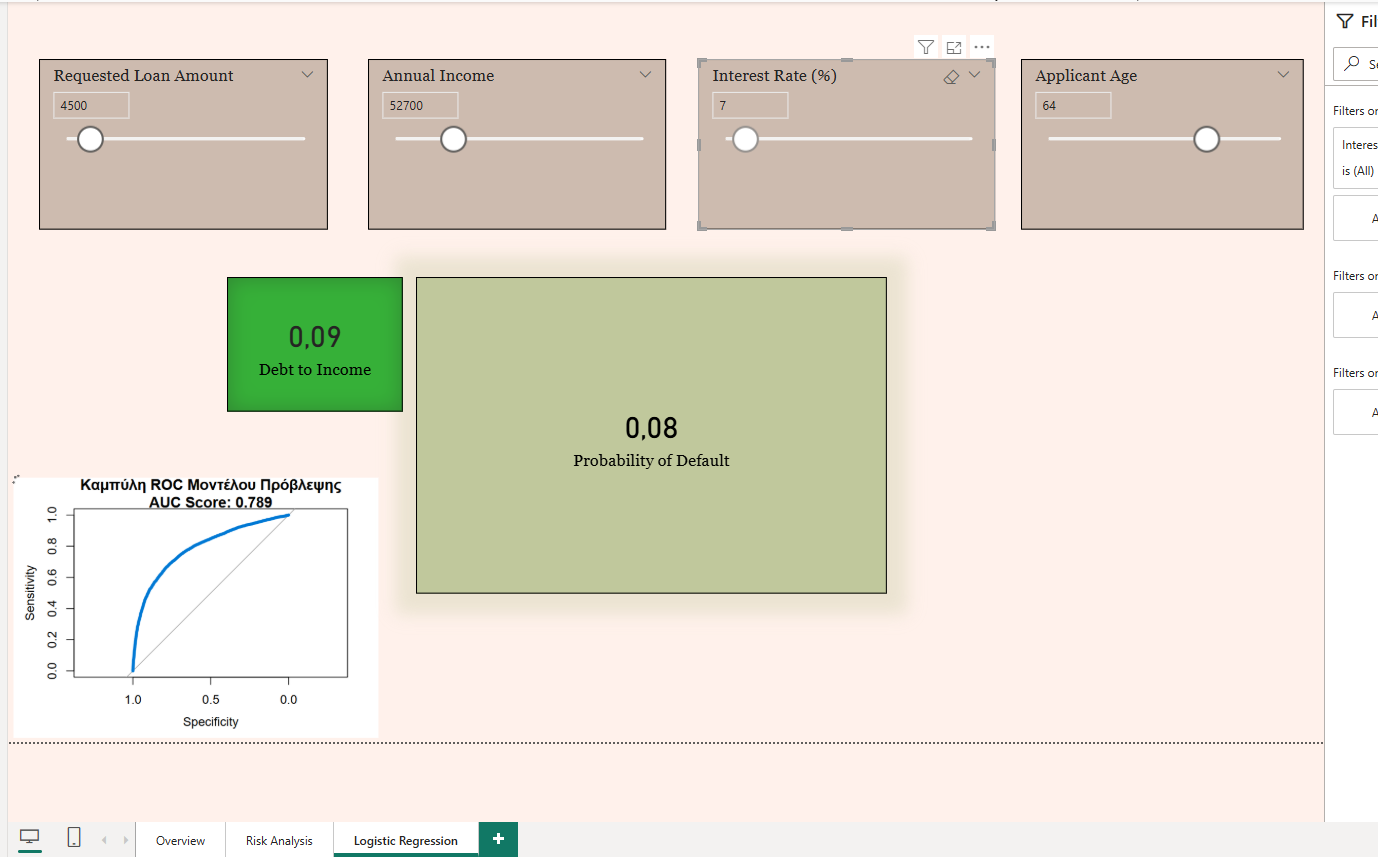

The dashboard page shown, as its layout file describes it:
{"tool":"powerbi","page":{"name":"Logistic Regression ","canvas":[1280,720],"ordinal":2},"visuals":[{"type":"scriptVisual","fields":{"Values":["credit_risk_dataset.cb_person_cred_hist_length","credit_risk_dataset.Default_on_file","credit_risk_dataset.loan_amnt","credit_risk_dataset.loan_grade","credit_risk_dataset.loan_intent","credit_risk_dataset.loan_percent_income","credit_risk_dataset.loan_status","credit_risk_dataset.person_age","credit_risk_dataset.person_emp_length.1","credit_risk_dataset.person_home_ownership","credit_risk_dataset.person_income","credit_risk_dataset.Loan Interest Rate"]},"box":[0,456.7,365.4,263.3],"z":0},{"type":"slicer","fields":{"Values":["Ιncome.Ιncome"]},"box":[350.2,55.4,289.8,166.3],"z":1000},{"type":"slicer","fields":{"Values":["Loan Amount.Loan Amount"]},"box":[30.2,55.4,281.1,166.3],"z":2000},{"type":"slicer","fields":{"Values":["Interest Rate.Interest Rate"]},"box":[671.1,55.4,288.9,166.3],"z":3000},{"type":"slicer","fields":{"Values":["Person.Person"]},"box":[985.3,55.4,275.3,166.3],"z":4000},{"type":"card","fields":{"Values":["credit_risk_dataset.Πιθανότητα Κινδύνου"]},"box":[396.8,267.5,458.1,308.3],"z":5000},{"type":"card","fields":{"Values":["Εισοδημα.Debt to Income"]},"box":[213,267.5,171.2,131.3],"z":5001}]}

Visuals, with their boxes in screenshot pixels (x1, y1, x2, y2):
scriptVisual - credit_risk_dataset.cb_person_cred_hist_length x credit_risk_dataset.Default_on_file: {"left": 7, "top": 468, "right": 381, "bottom": 737}
slicer - Ιncome.Ιncome: {"left": 366, "top": 57, "right": 663, "bottom": 227}
slicer - Loan Amount.Loan Amount: {"left": 38, "top": 57, "right": 326, "bottom": 227}
slicer - Interest Rate.Interest Rate: {"left": 694, "top": 57, "right": 990, "bottom": 227}
slicer - Person.Person: {"left": 1016, "top": 57, "right": 1298, "bottom": 227}
card - credit_risk_dataset.Πιθανότητα Κινδύνου: {"left": 414, "top": 274, "right": 883, "bottom": 590}
card - Εισοδημα.Debt to Income: {"left": 225, "top": 274, "right": 401, "bottom": 408}
